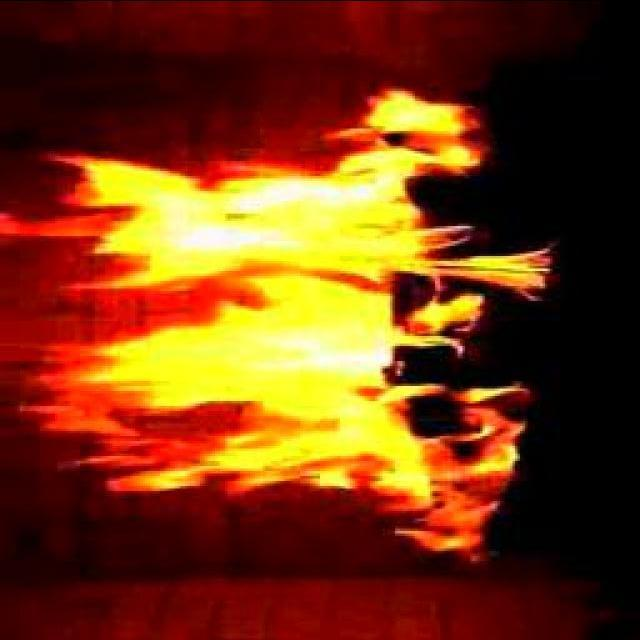Fire: (56, 121, 464, 498)
